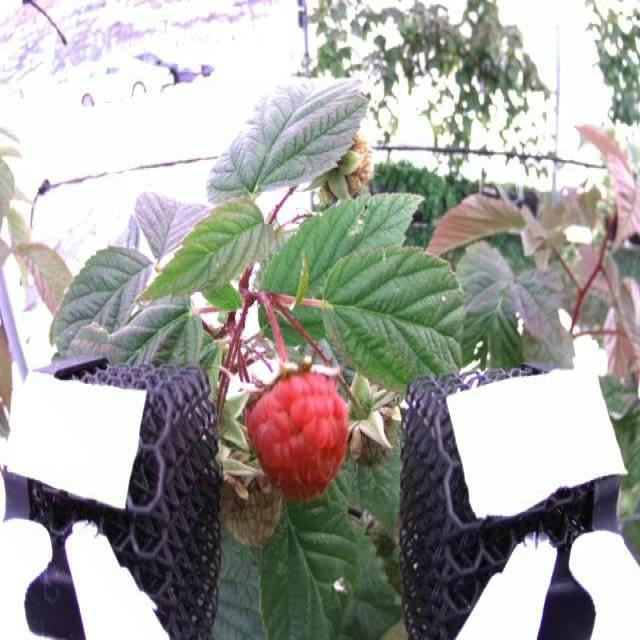Riped berries: (244, 364, 351, 501)
